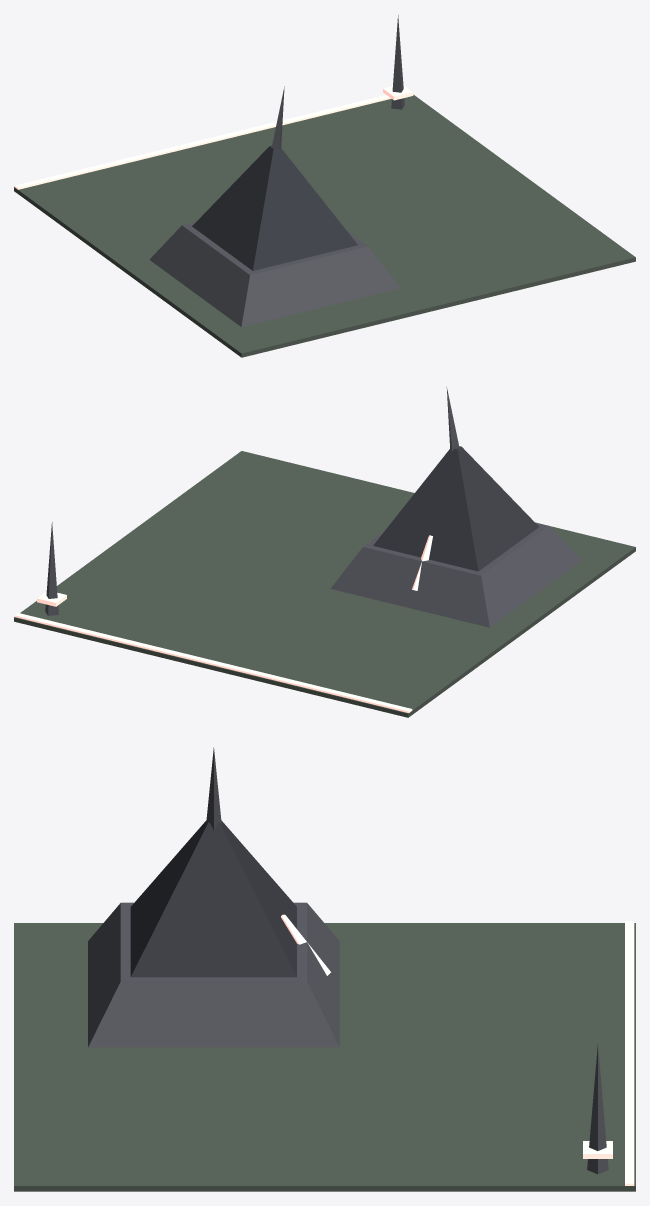
File: zone_low_1_t1.glb
The picture shows the model from 3 angles, top to bottom: view 1: azimuth 30°, elevation 25°; view 2: azimuth 150°, elevation 25°; view 3: azimuth 270°, elevation 25°; orthographic projection. The views are drawn at different scales.
Visible parts, largest first — view 1: zone_low_1_t1, detail; view 2: zone_low_1_t1, detail; view 3: zone_low_1_t1, detail.
Part boxes in pixels (x1,y1,x2,y2): zone_low_1_t1: [14, 86, 635, 357]; detail: [14, 15, 413, 189]; zone_low_1_t1: [14, 387, 635, 717]; detail: [14, 522, 412, 712]; zone_low_1_t1: [14, 747, 635, 1191]; detail: [583, 921, 634, 1185].
Size of the model in its own units: 19.6 by 9.04 by 19.6.
